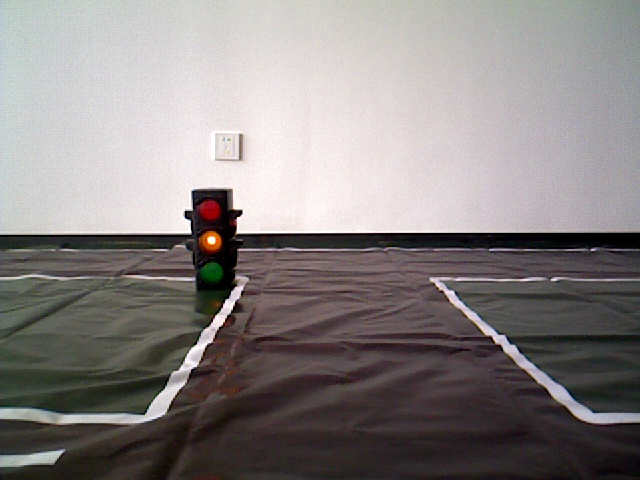yellow: (192, 191, 235, 295)
